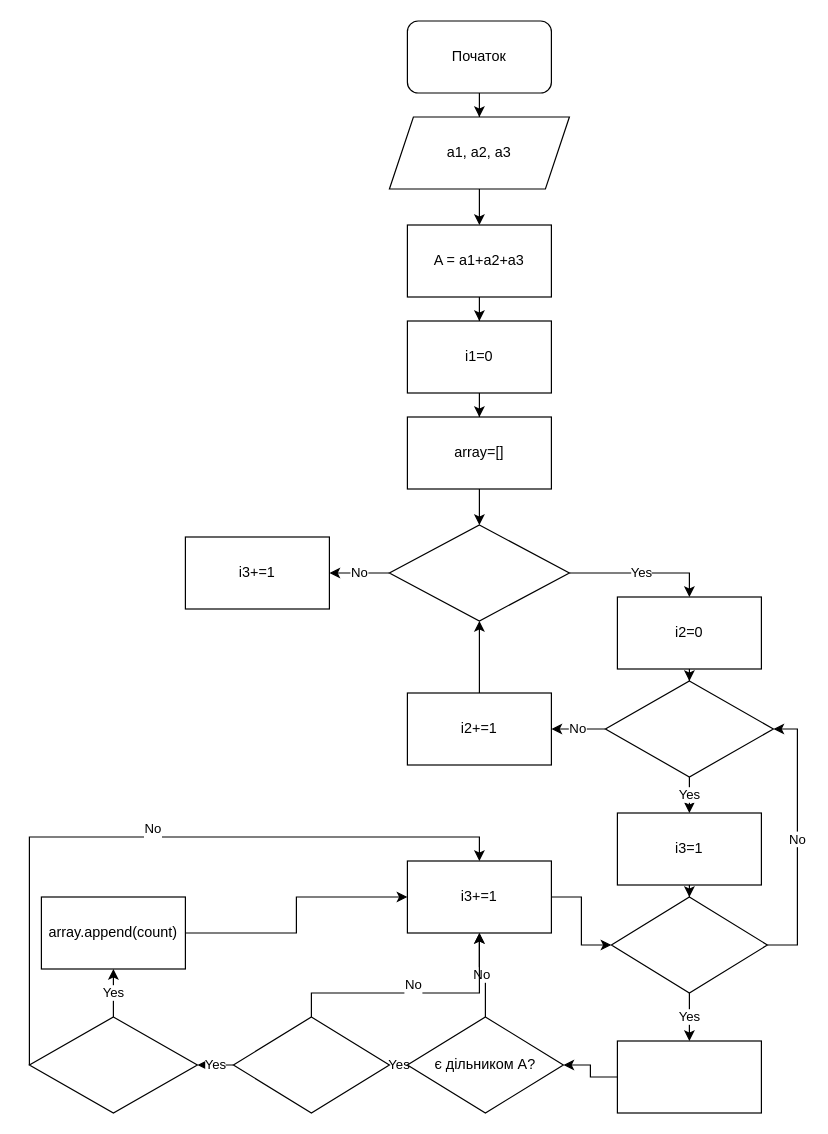
Image size: 828x1134. Some labels were removed from this diagram. The shapes that lost their labels are listed below. From the top down, each one's centre as x and y in pixels, then its label:
At (478,572): "i1<a1".
At (688,728): "i2<a2".
At (688,944): "i3<a3".
At (112,1064): "Сума цифр менше 30?".
At (310,1064): "Є непарним?".
At (688,1076): "count".
